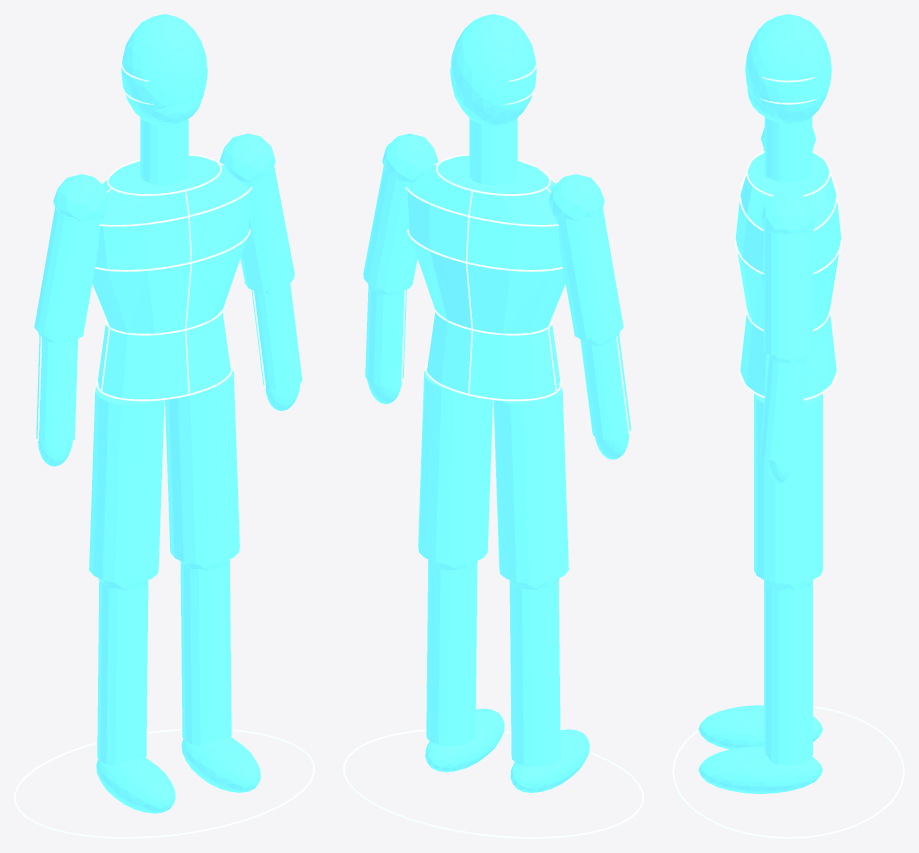
The model's file is ghost-standing.glb.
3 renders of one model, left to right at view 1: azimuth 30°, elevation 25°; view 2: azimuth 150°, elevation 25°; view 3: azimuth 270°, elevation 25°, orthographic.
Visible parts, largest first — view 1: 001_torso, 009_thigh, 026_thigh, 011_shin, 028_shin, 003_head, 005_upper_arm, 022_upper_arm, 007_forearm, 024_forearm, 017_foot, 034_foot (+6 smaller); view 2: 001_torso, 009_thigh, 026_thigh, 011_shin, 028_shin, 003_head, 005_upper_arm, 022_upper_arm, 007_forearm, 024_forearm, 002_neck, 017_foot (+4 smaller); view 3: 001_torso, 026_thigh, 028_shin, 003_head, 022_upper_arm, 034_foot, 024_forearm, 002_neck, 017_foot, 030_shoulder.
Boxes of the visible parts, x1,y1,x2,y2 form: 001_torso: (92,156,250,399); 009_thigh: (89,385,164,583); 026_thigh: (165,368,239,564); 011_shin: (97,581,148,765); 028_shin: (180,560,231,745); 003_head: (121,14,207,125); 005_upper_arm: (34,207,103,339); 022_upper_arm: (240,166,294,291); 007_forearm: (36,337,77,443); 024_forearm: (251,283,302,390); 017_foot: (96,758,175,813); 034_foot: (181,737,260,792); 001_torso: (407,156,565,399); 009_thigh: (493,385,568,583); 026_thigh: (418,368,492,564); 011_shin: (509,581,560,766); 028_shin: (426,560,477,746); 003_head: (450,14,536,125); 005_upper_arm: (554,207,623,339); 022_upper_arm: (363,166,417,291); 007_forearm: (580,335,631,439); 024_forearm: (365,285,406,385); 002_neck: (469,118,517,185); 017_foot: (510,729,589,792); 001_torso: (735,152,841,398); 026_thigh: (754,391,822,583); 028_shin: (764,581,812,765); 003_head: (745,14,831,123); 022_upper_arm: (763,228,813,356); 034_foot: (698,746,822,793); 024_forearm: (760,356,807,461); 002_neck: (764,117,812,182); 017_foot: (698,705,822,749); 030_shoulder: (761,191,815,234).
Bounding box in the file's own units: 0.684 × 1.81 × 0.504.
